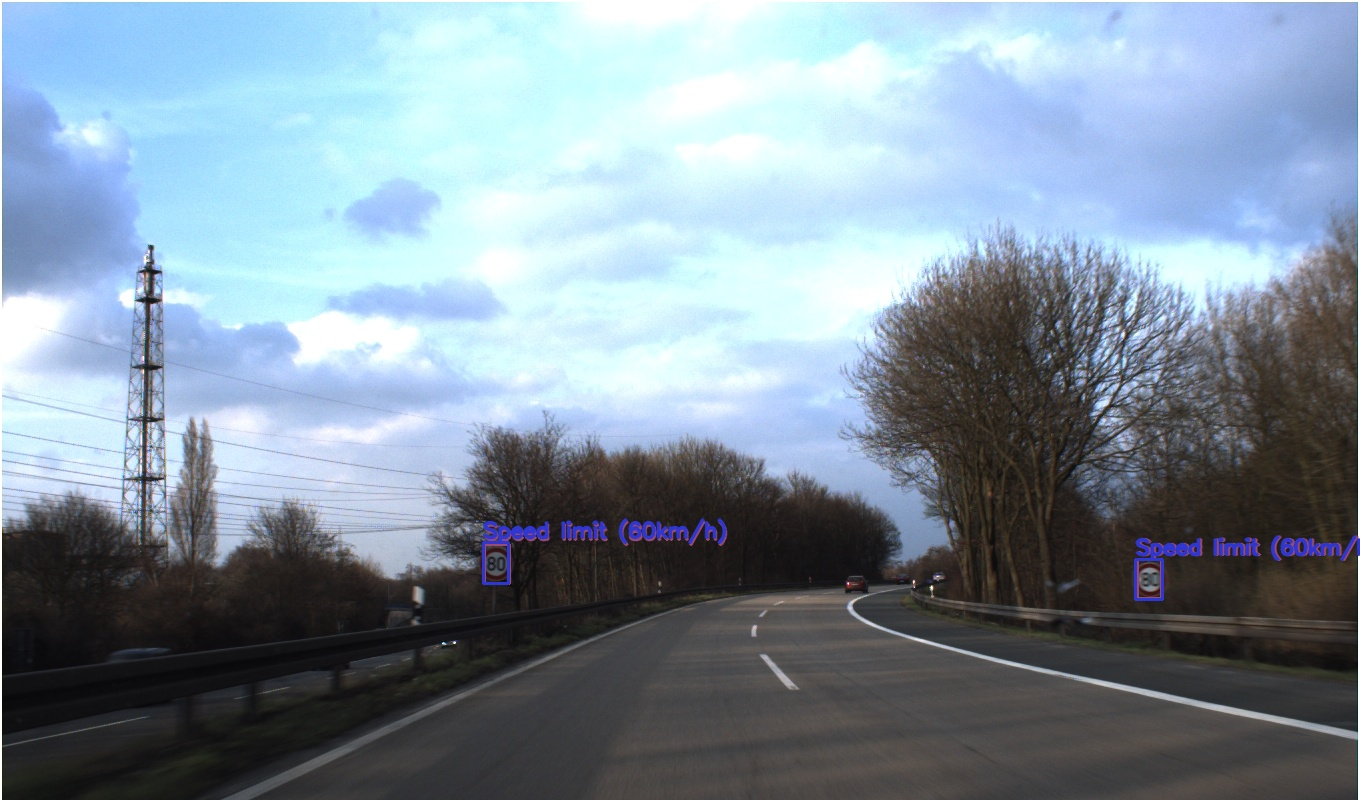Speed limit (50km/h): (984, 392, 1017, 425)
Wild animals crossing: (982, 363, 1016, 393)
